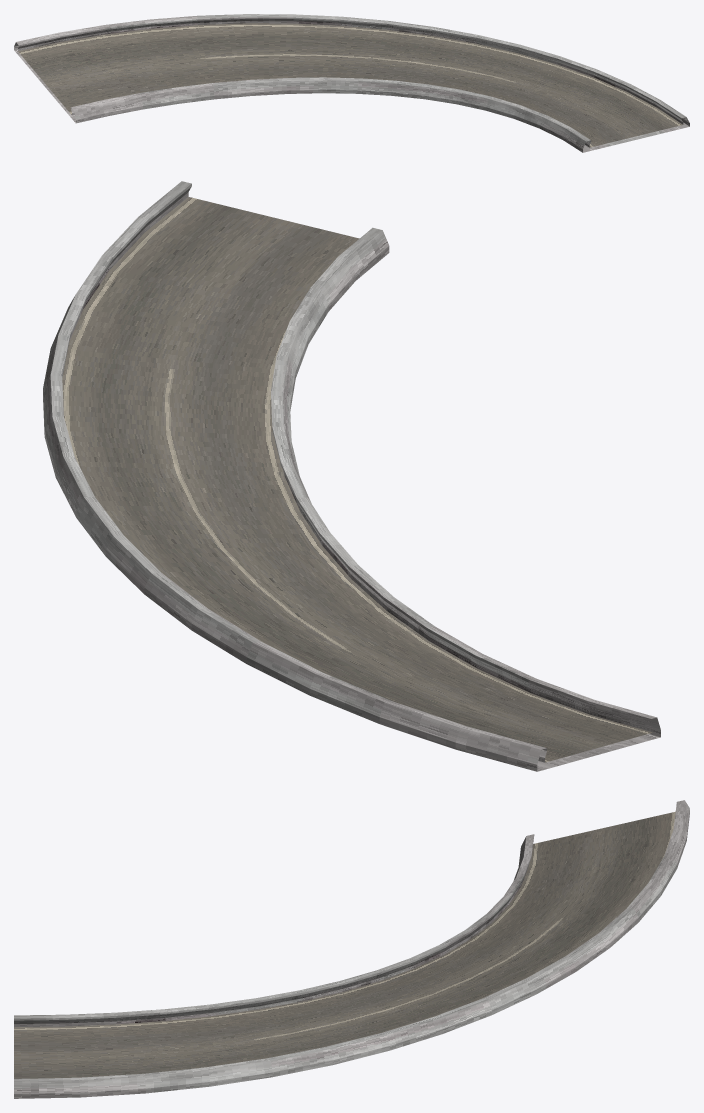
Rendered from road-Turn-Flat-HalfBankedLeft-Down1-Left-Size4.glb.
The picture shows the model from 3 angles, top to bottom: view 1: azimuth 30°, elevation 25°; view 2: azimuth 150°, elevation 25°; view 3: azimuth 270°, elevation 25°; orthographic projection. The views are drawn at different scales.
Parts seen in each view (by area): view 1: road-Turn-Flat-HalfBankedLeft-Down1-Left-Size4; view 2: road-Turn-Flat-HalfBankedLeft-Down1-Left-Size4; view 3: road-Turn-Flat-HalfBankedLeft-Down1-Left-Size4.
Part boxes in pixels (x1,y1,x2,y2): road-Turn-Flat-HalfBankedLeft-Down1-Left-Size4: (14, 14, 689, 152); road-Turn-Flat-HalfBankedLeft-Down1-Left-Size4: (43, 181, 660, 771); road-Turn-Flat-HalfBankedLeft-Down1-Left-Size4: (14, 800, 689, 1098).
Bounding box in the file's own units: 4 × 0.3438 × 4.
Materials: 2 (2 with a texture image).
